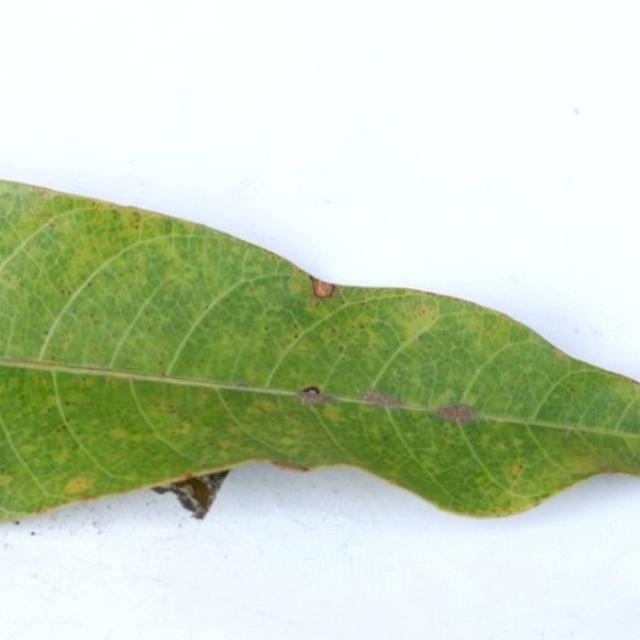Mango: (0, 180, 639, 522)
Powdery_Mildew: (246, 404, 325, 455), (168, 390, 224, 427), (51, 466, 103, 497), (405, 295, 440, 324), (437, 403, 477, 424), (364, 390, 404, 409), (26, 501, 73, 516), (82, 364, 136, 376), (433, 388, 461, 408), (311, 278, 336, 299), (616, 447, 637, 470), (507, 462, 529, 480), (320, 405, 343, 422), (255, 399, 280, 414), (51, 447, 71, 465), (109, 427, 132, 440), (174, 421, 192, 436), (19, 443, 38, 457), (232, 376, 251, 389), (600, 466, 624, 475), (511, 436, 526, 449), (130, 210, 141, 223), (0, 475, 13, 485), (423, 290, 441, 297), (416, 333, 430, 342), (158, 370, 170, 380), (36, 187, 48, 196), (59, 288, 71, 296), (634, 375, 640, 388), (47, 221, 55, 230), (18, 279, 26, 288), (337, 345, 346, 353), (568, 385, 577, 393), (330, 327, 337, 335), (64, 400, 71, 406), (158, 360, 163, 366)
